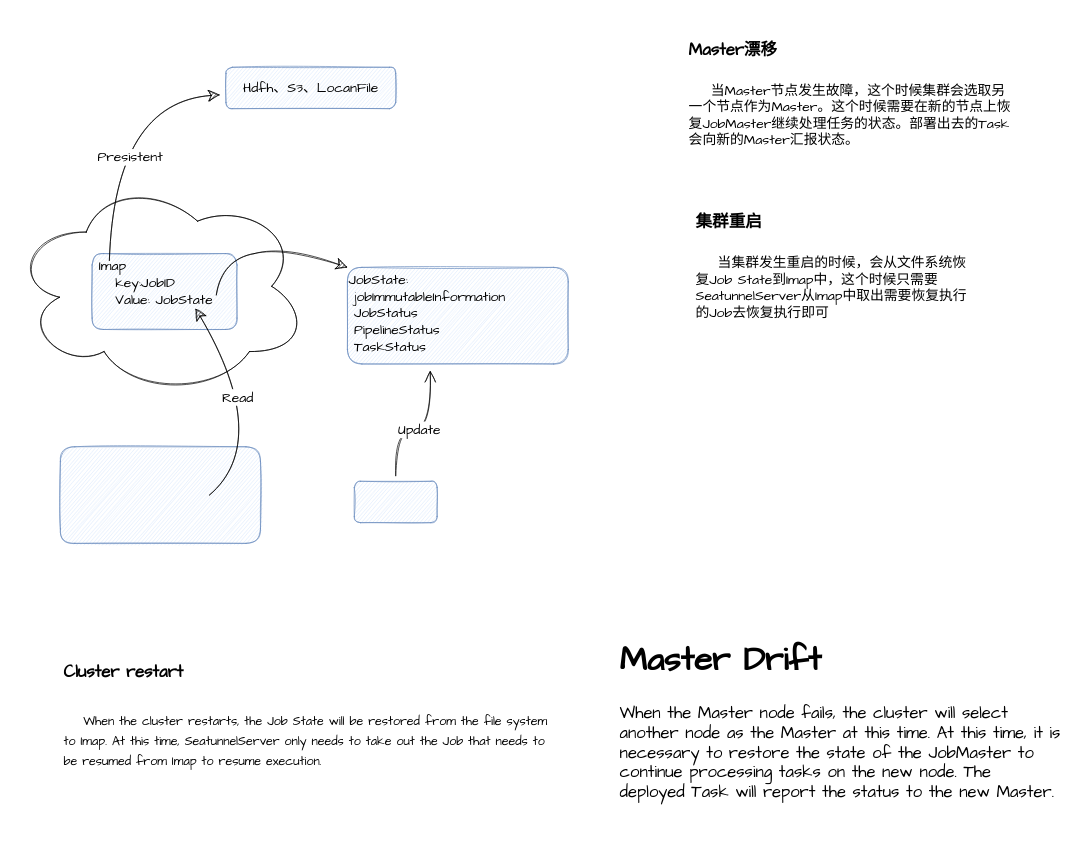
Some shapes in this 1077 by 865 pixel diagram are drawn without their labels. Here are the shapes that lost their labels. From the top down, the centre of each, then its label:
At [160,494]: "SeaTunnelServer getJobStatus(JobId);".
At [395,502]: "JobMaster".
